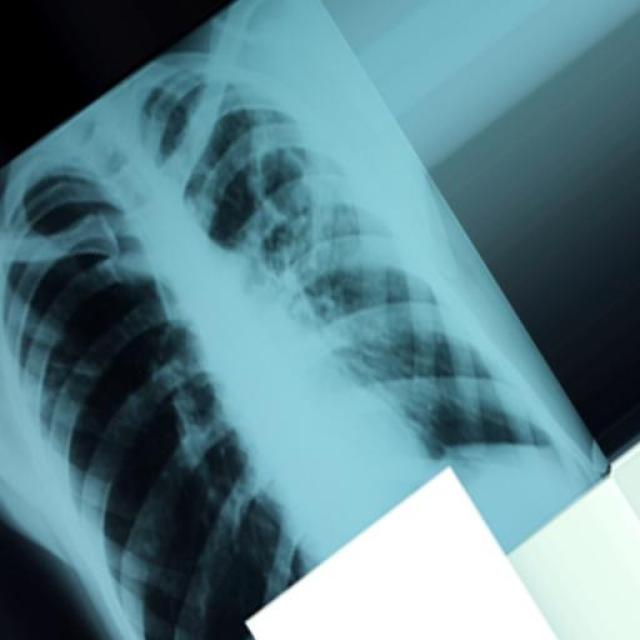tuberculosis: (0, 0, 616, 640)
